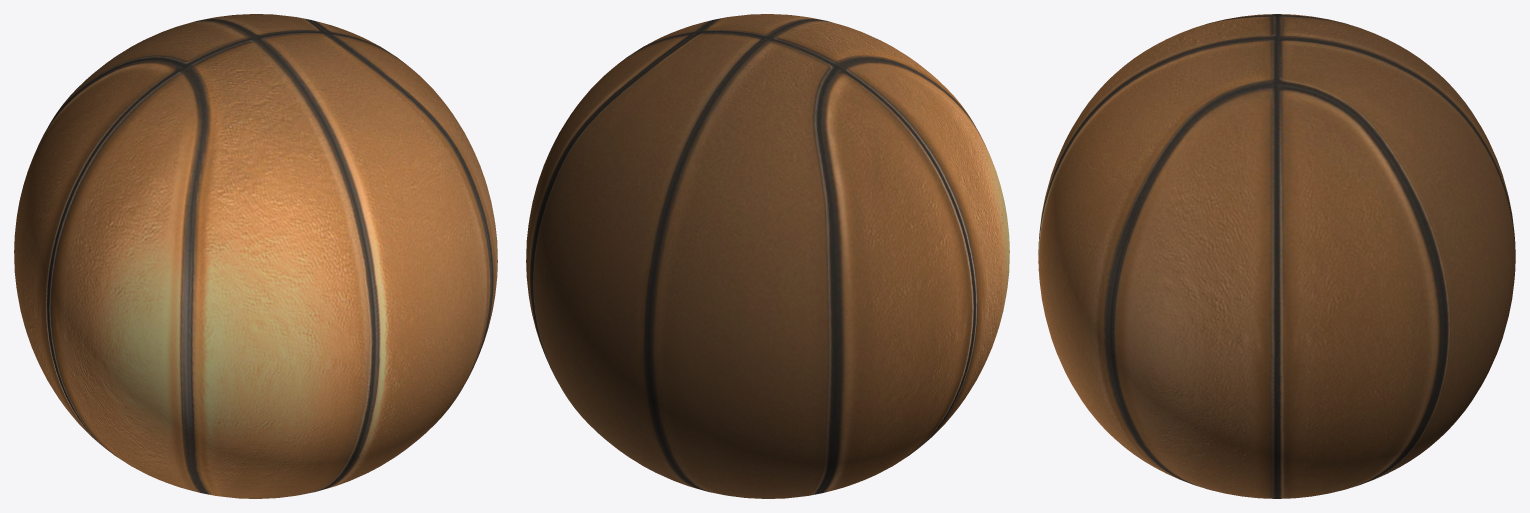
The model's file is kunBall.obj.
3 renders of one model, left to right at view 1: azimuth 30°, elevation 25°; view 2: azimuth 150°, elevation 25°; view 3: azimuth 270°, elevation 25°, orthographic.
Visible parts, largest first — view 1: kunBall; view 2: kunBall; view 3: kunBall.
Part boxes in pixels (left/top/right/bottom): kunBall: left=14, top=14, right=497, bottom=498; kunBall: left=526, top=14, right=1009, bottom=498; kunBall: left=1038, top=14, right=1515, bottom=498.
Size of the model in its own units: 0.9181 by 0.924 by 0.9158.
Materials: 1 (1 with a texture image).
